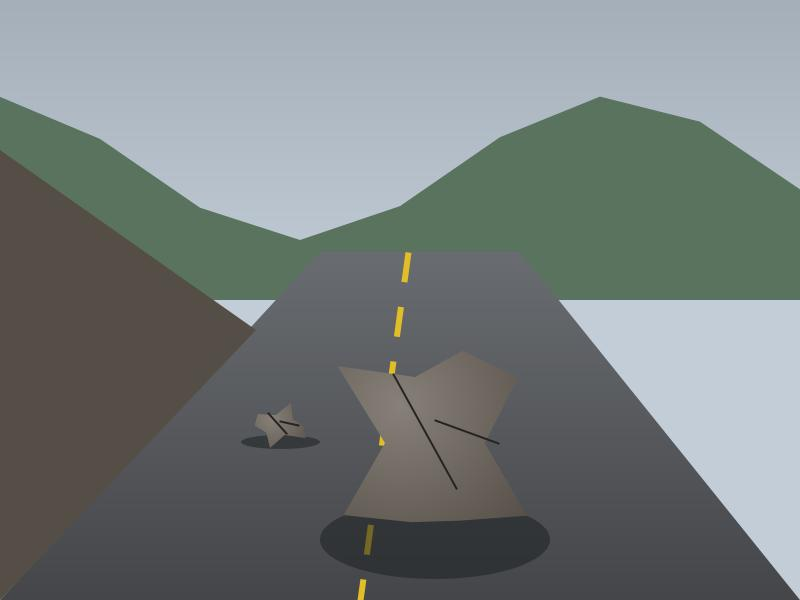ROAD_OBSTACLE: (330, 329, 540, 557), (251, 405, 310, 446)
